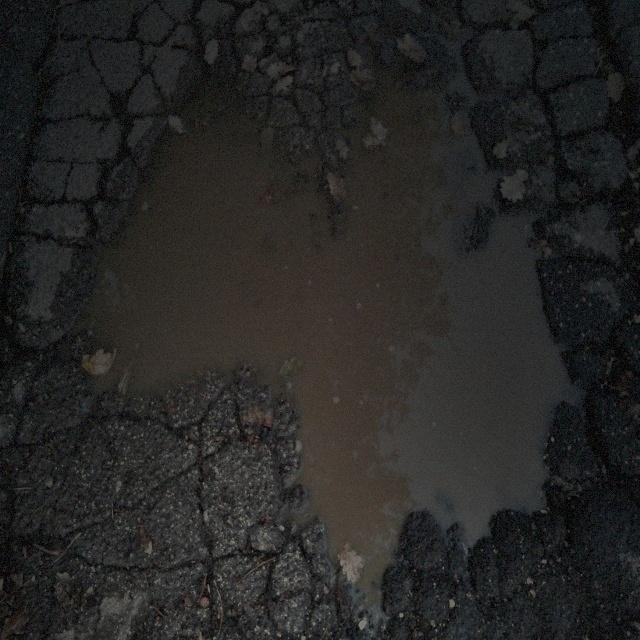pothole: (55, 60, 598, 603)
